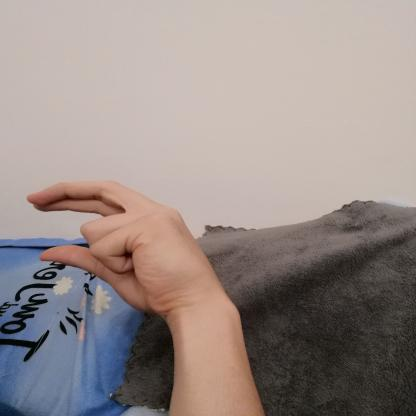DHELL: (14, 173, 228, 323)
